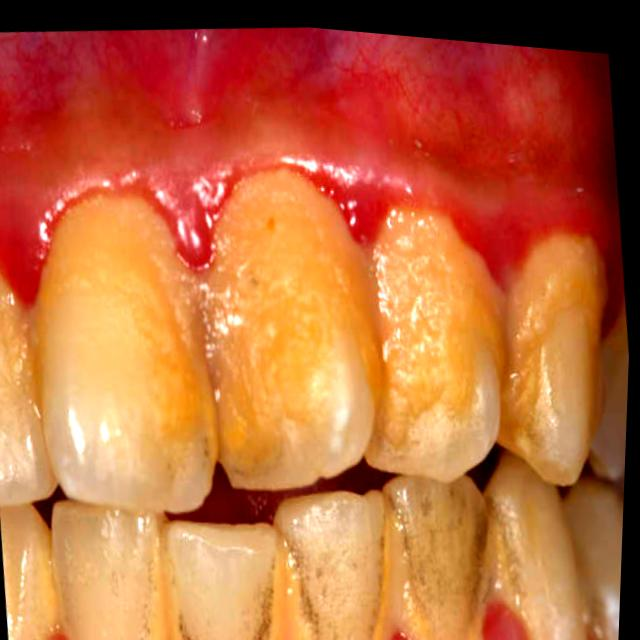gingivitis: (0, 27, 625, 323)
